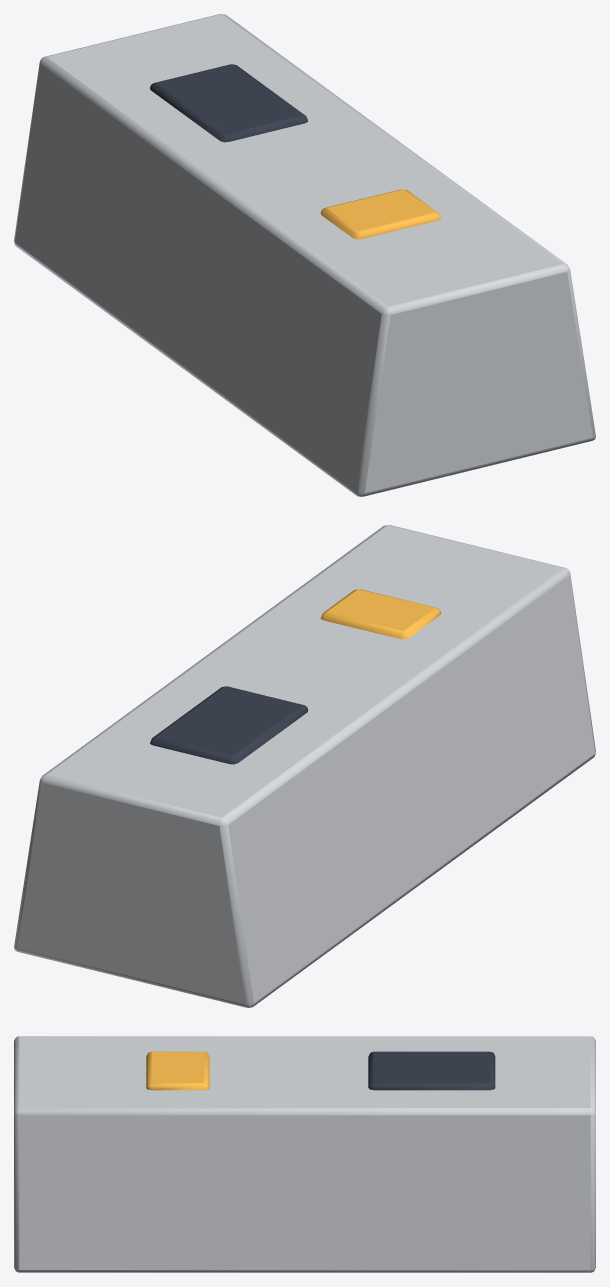
File: ware_barren.fbx
The picture shows the model from 3 angles, top to bottom: view 1: azimuth 30°, elevation 25°; view 2: azimuth 150°, elevation 25°; view 3: azimuth 270°, elevation 25°; orthographic projection. The views are drawn at different scales.
Parts seen in each view (by area): view 1: ware_barren_Koerper; view 2: ware_barren_Koerper; view 3: ware_barren_Koerper.
Boxes of the visible parts, left/top/right/bottom form: ware_barren_Koerper: left=14, top=14, right=595, bottom=496; ware_barren_Koerper: left=14, top=525, right=595, bottom=1007; ware_barren_Koerper: left=14, top=1036, right=595, bottom=1272.
Bounding box in the file's own units: 0.2185 × 0.165 × 0.55.
